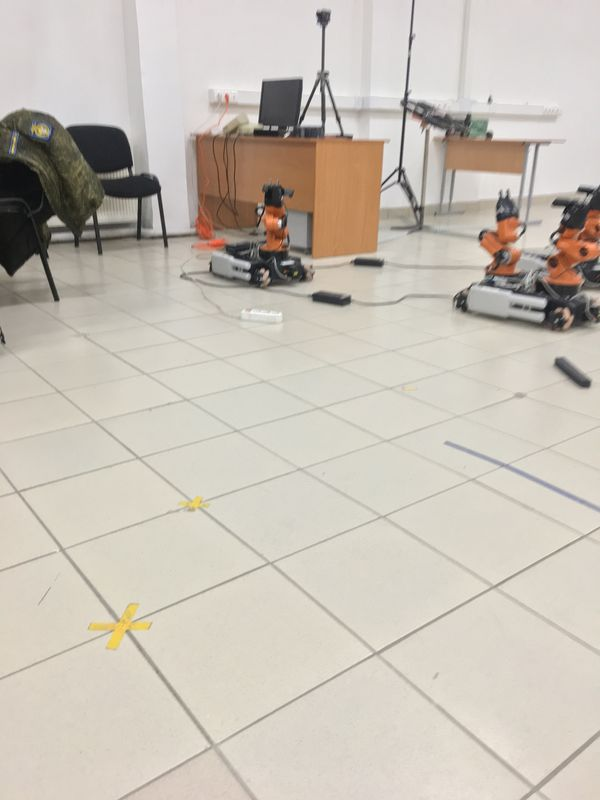socket: (235, 305, 286, 326)
